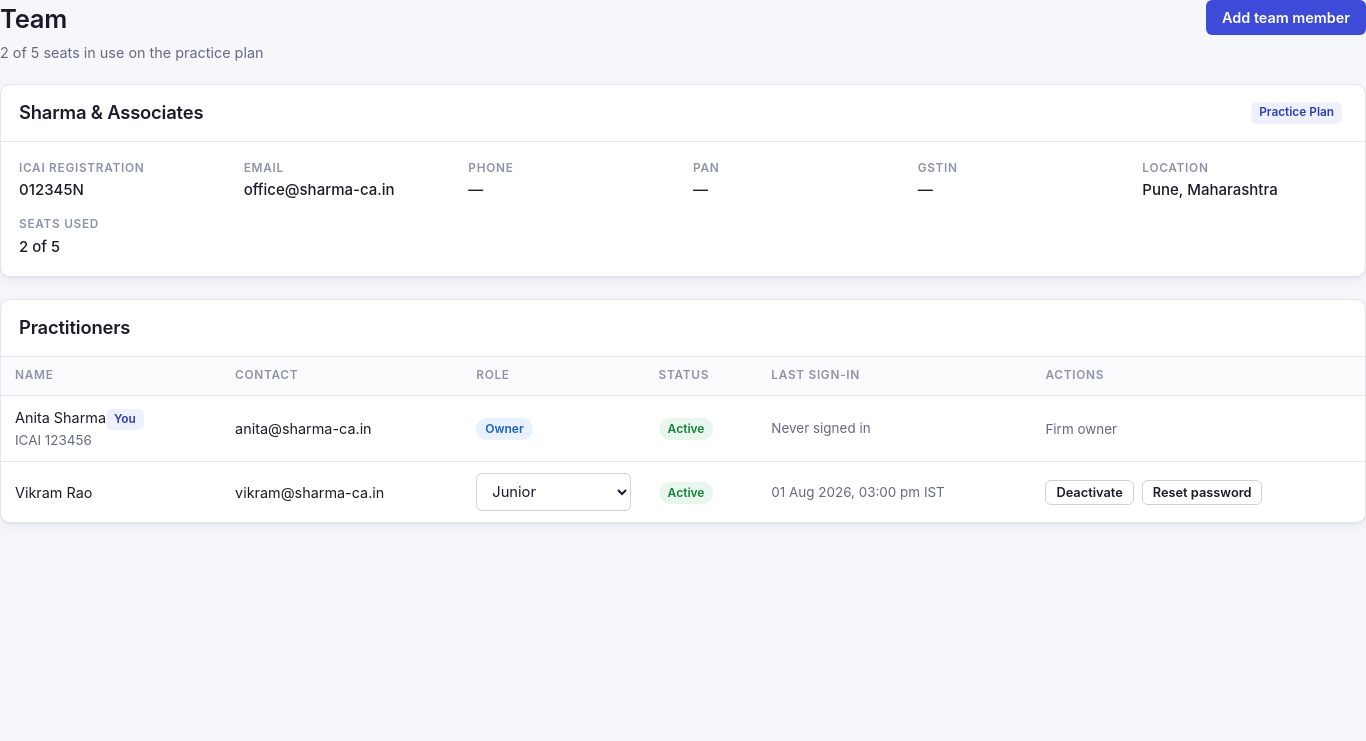
Scenario: Adding a member › sends the new member and reports they can sign in
The width and height of the screenshot is (1366, 741).
Click the button "Add team member" at (1286, 18), box x1=1206 y1=0 x2=1365 y2=35
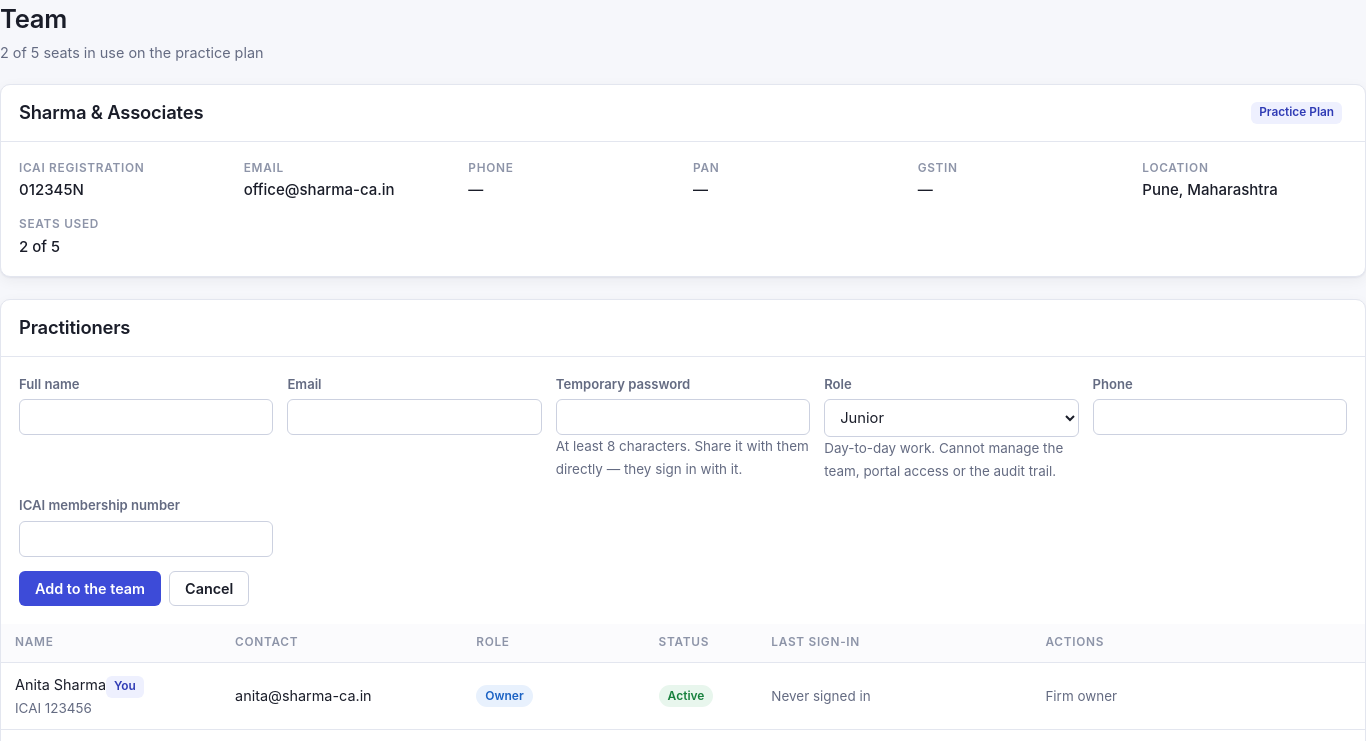
Type "Sunil Bose" into the field labelled "Full name" at (146, 417), box x1=19 y1=399 x2=273 y2=435
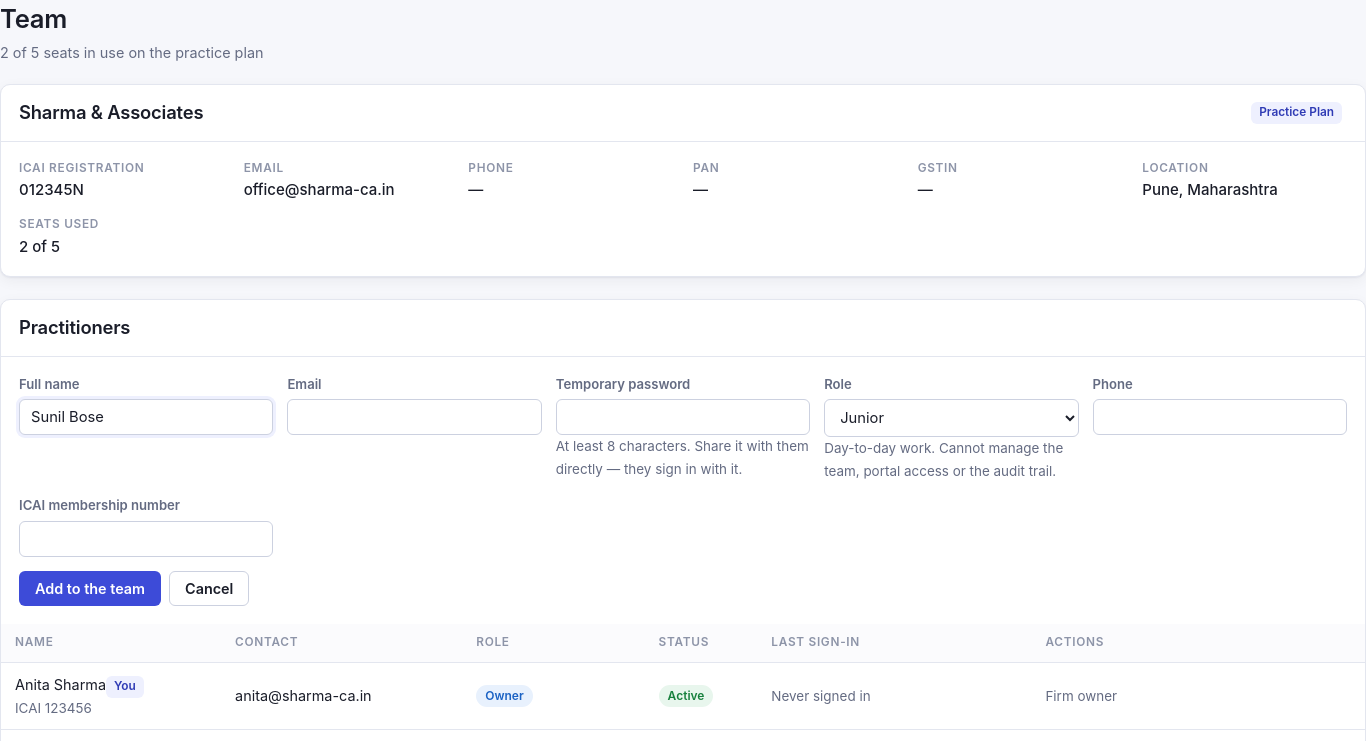
Type "sunil@sharma-ca.in" into the field labelled "Email" at (415, 417), box x1=287 y1=399 x2=542 y2=435
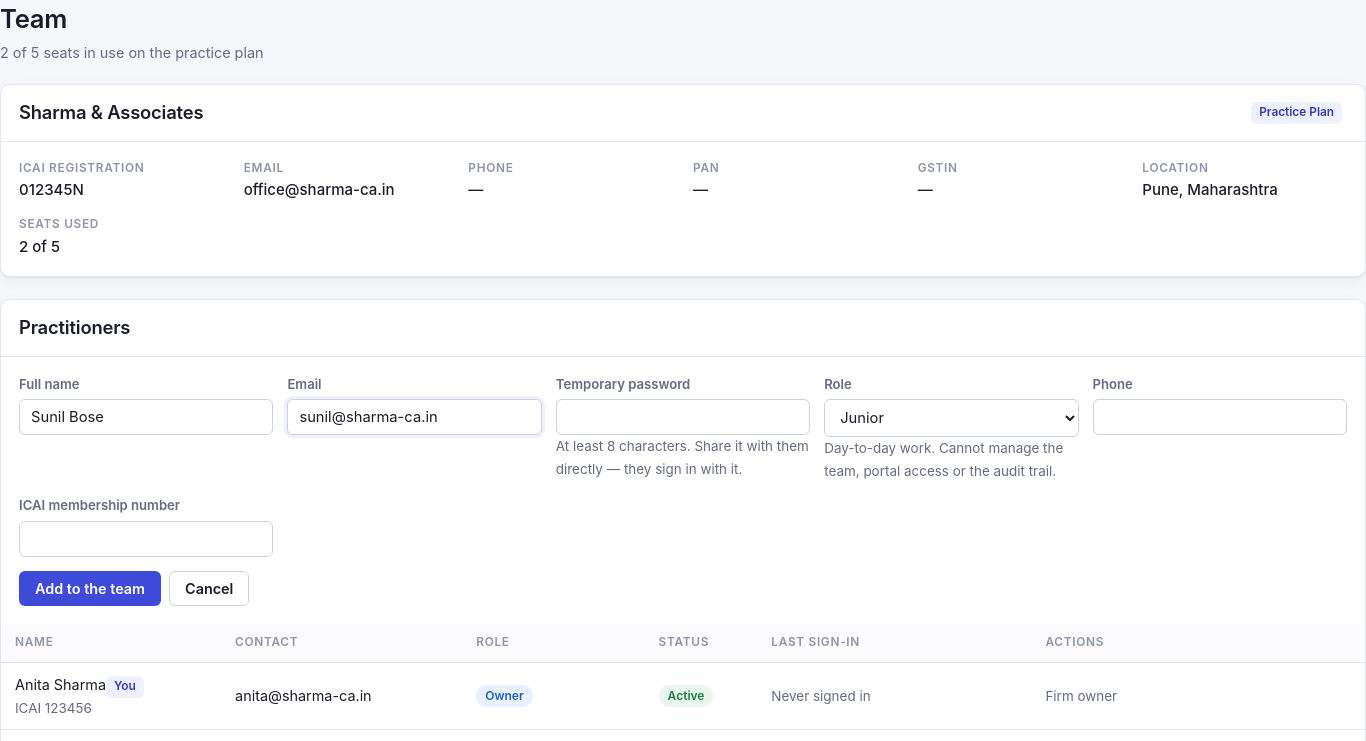
Type "a-good-password" into the password field labelled "Temporary password" at (683, 417), box x1=556 y1=399 x2=810 y2=435
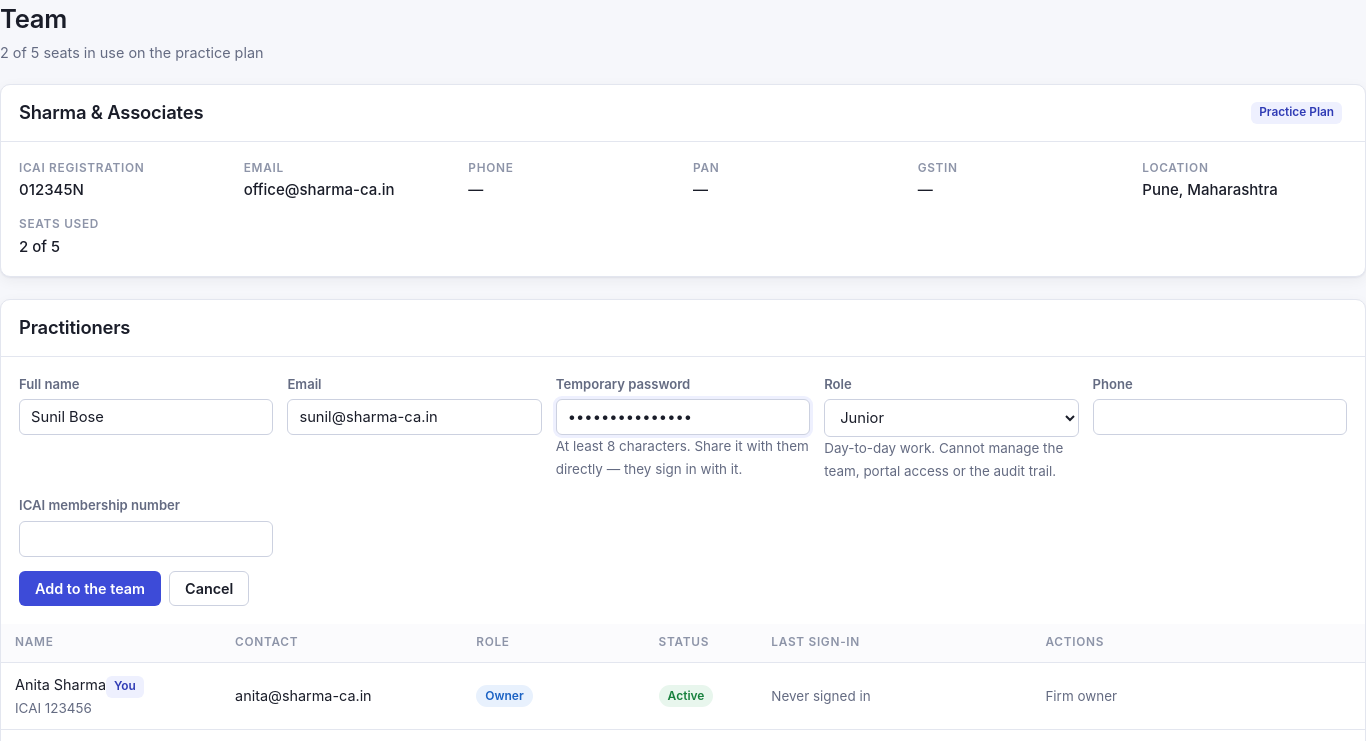
Select "Manager" in the dropdown labelled "Role" at (951, 418), box x1=824 y1=399 x2=1079 y2=437
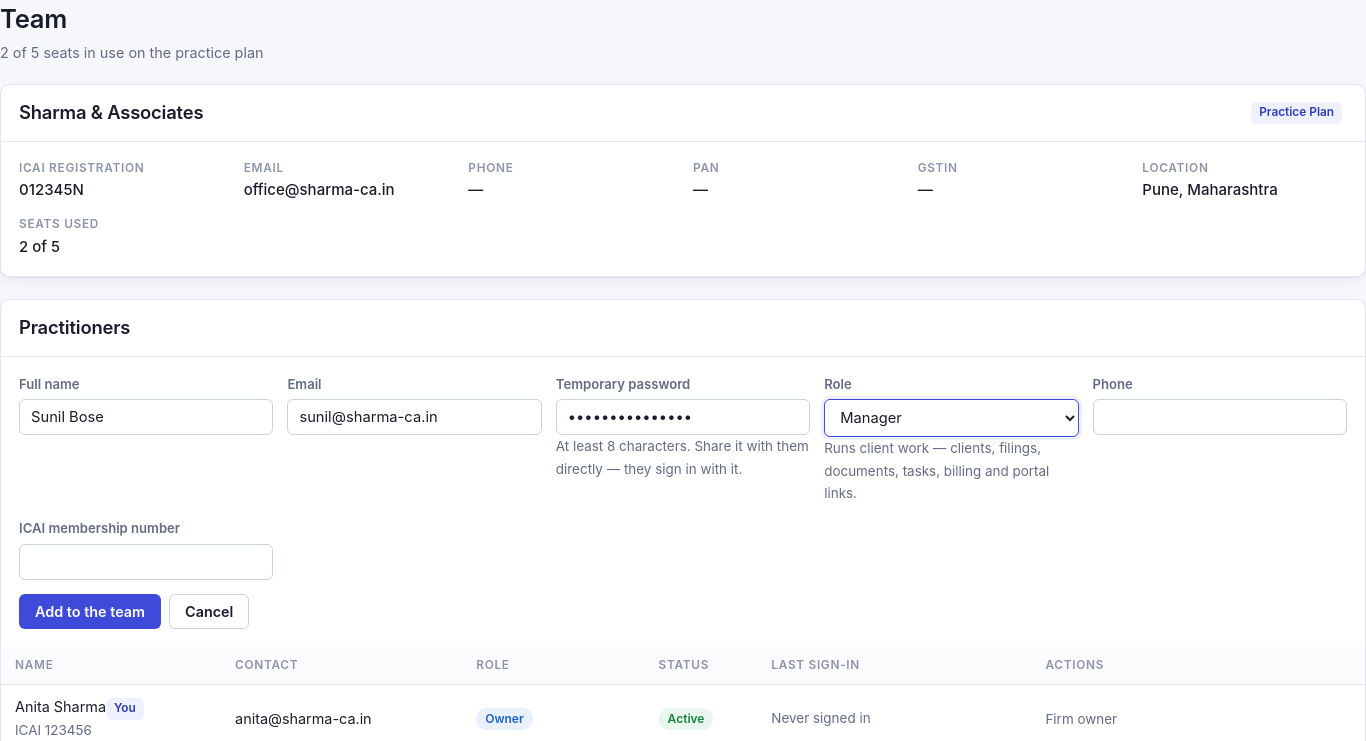
Click the button "Add to the team" at (90, 611), box x1=19 y1=594 x2=161 y2=629
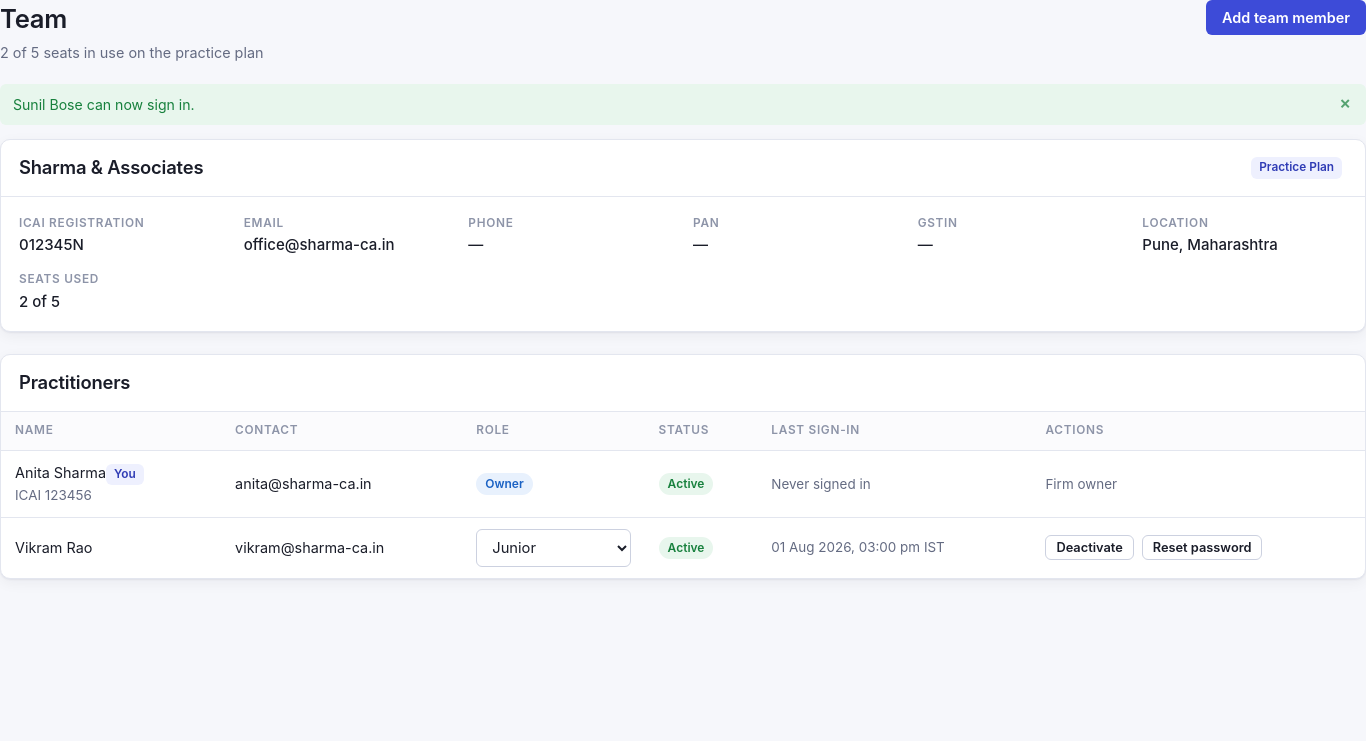
expect the text "Sunil Bose can now sign in." is shown: met, box x1=13 y1=94 x2=195 y2=115
